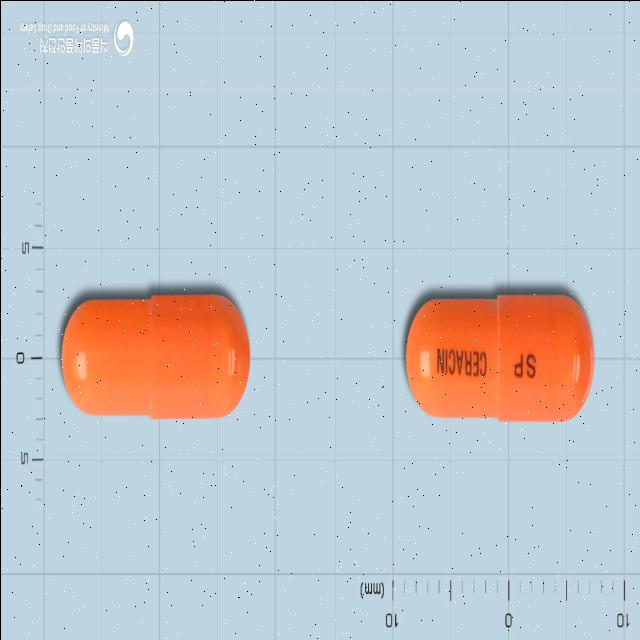Ceracin Cap: (399, 284, 597, 428)
